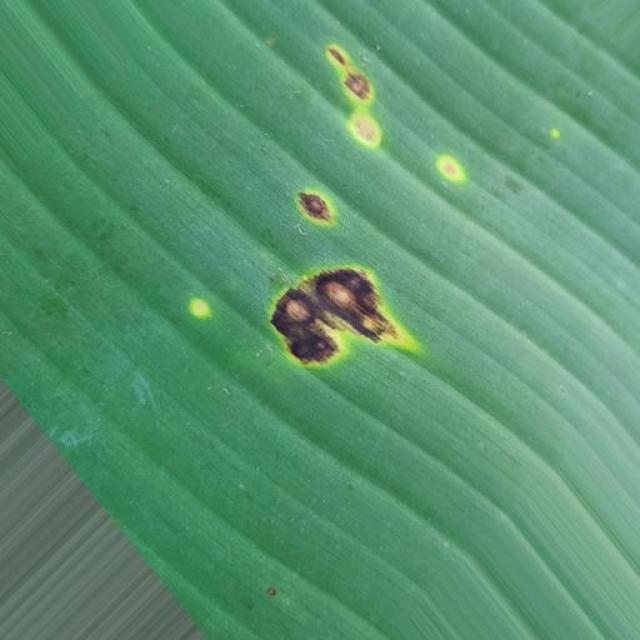Early_rust: (265, 30, 426, 385), (426, 125, 470, 225), (164, 278, 216, 343)
